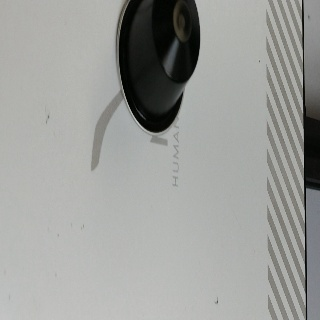capsule_10: (115, 1, 201, 136)
